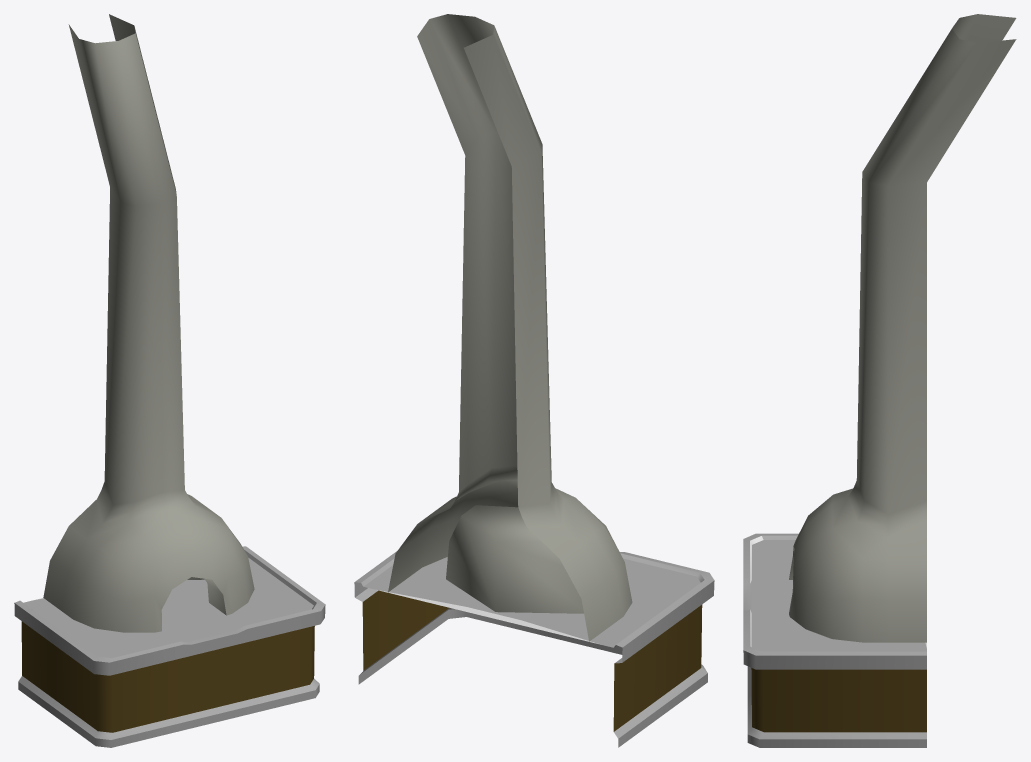
File: Oven.fbx
3 views of the same model, side by side, from view 1: azimuth 30°, elevation 25°; view 2: azimuth 150°, elevation 25°; view 3: azimuth 270°, elevation 25° (orthographic). The views are drawn at different scales.
Visible parts, largest first — view 1: Oven; view 2: Oven; view 3: Oven.
Part boxes in pixels (bbox=[...]): Oven: bbox=[14, 14, 325, 747]; Oven: bbox=[354, 14, 714, 747]; Oven: bbox=[743, 14, 1016, 747].
Size of the model in its own units: 2.16 by 5.47 by 2.05.
